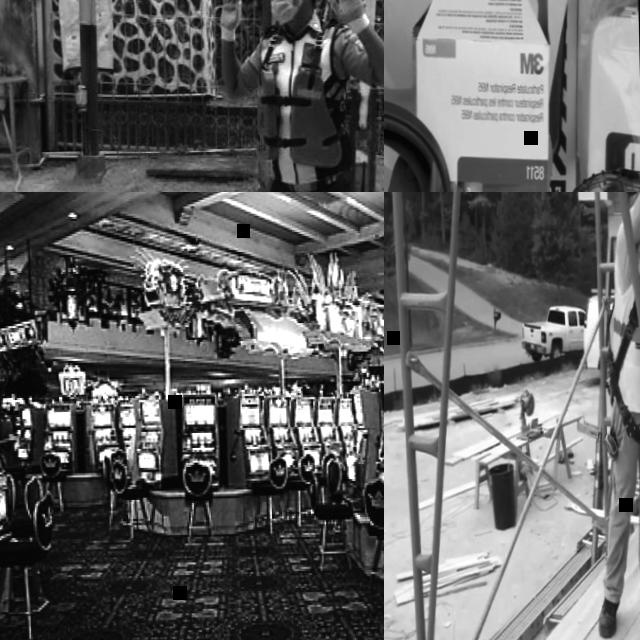Mask: (270, 0, 314, 19)
Person: (214, 0, 384, 192), (583, 192, 640, 640)
Safety Vest: (251, 26, 346, 180), (608, 219, 640, 413)
vehicle: (580, 288, 640, 389), (520, 304, 586, 361)
